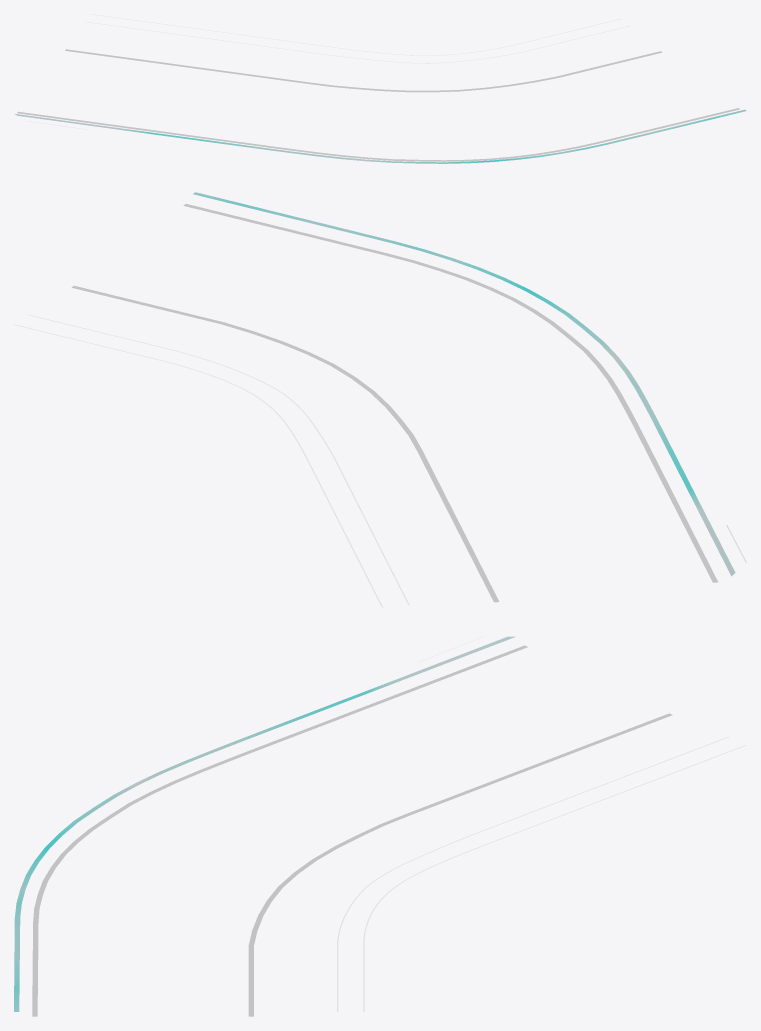
3 renders of one model, top to bottom at view 1: azimuth 30°, elevation 25°; view 2: azimuth 150°, elevation 25°; view 3: azimuth 270°, elevation 25°, orthographic. The views are drawn at different scales.
Visible parts, largest first — view 1: SM_I_RoadFacility_Ground_D_09_Decal; view 2: SM_I_RoadFacility_Ground_D_09_Decal; view 3: SM_I_RoadFacility_Ground_D_09_Decal.
Boxes of the visible parts, <box> form: SM_I_RoadFacility_Ground_D_09_Decal: <box>14,14,746,163</box>; SM_I_RoadFacility_Ground_D_09_Decal: <box>14,192,746,607</box>; SM_I_RoadFacility_Ground_D_09_Decal: <box>14,636,746,1016</box>.
Size of the model in its own units: 1219 by 1477 by 10.49.
